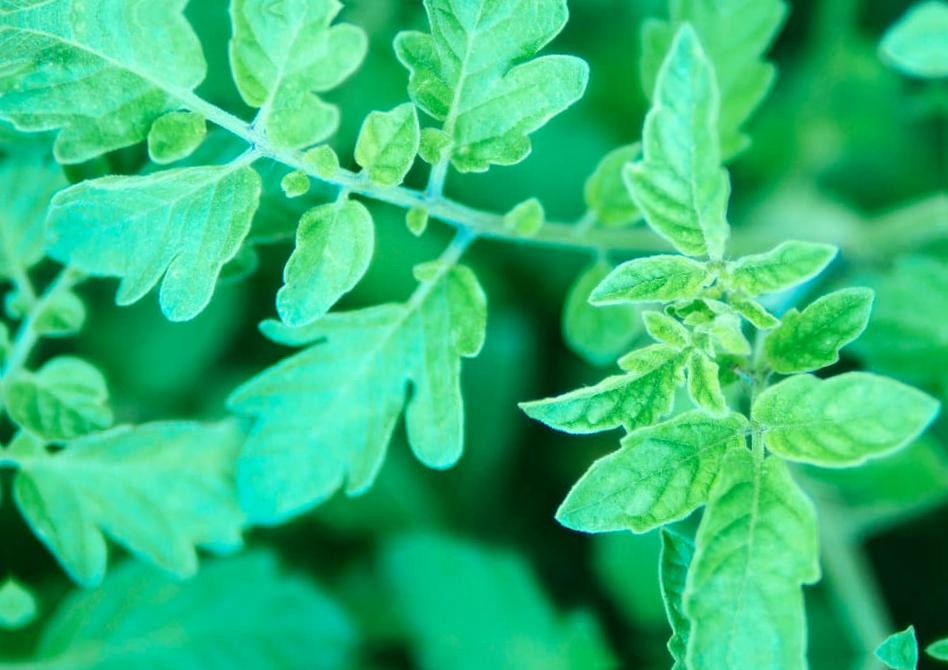Tomato leaf: (228, 234, 502, 535), (25, 144, 272, 331), (393, 0, 607, 196), (0, 11, 216, 172), (532, 407, 767, 550), (683, 430, 823, 661), (620, 20, 743, 277), (238, 4, 383, 173), (752, 362, 945, 470)
